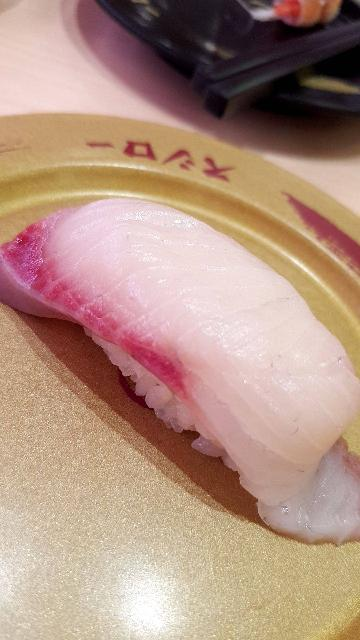janback: (116, 0, 360, 122)
jangold: (0, 122, 360, 640)
